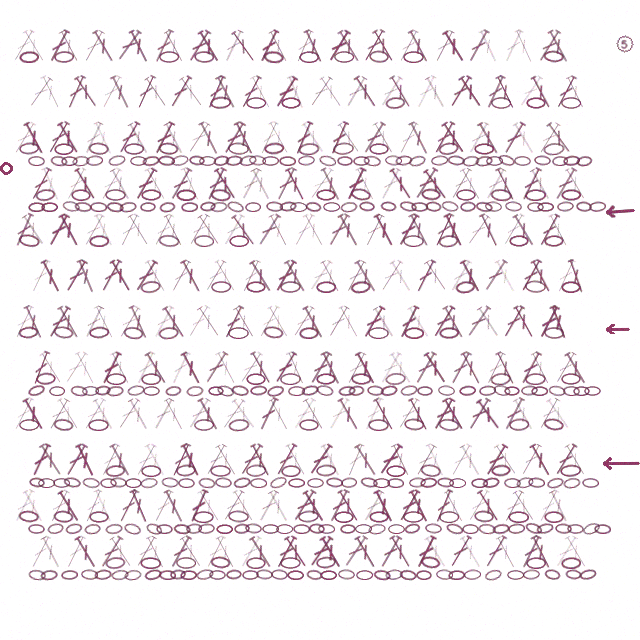chain: (18, 233, 40, 248), (438, 141, 459, 156), (350, 187, 371, 202), (53, 325, 74, 340), (263, 325, 284, 340), (543, 417, 564, 432), (420, 463, 441, 478), (420, 555, 441, 570), (298, 142, 320, 156), (543, 142, 565, 156), (490, 188, 512, 202), (158, 234, 180, 248), (228, 418, 250, 432), (438, 418, 460, 432), (263, 50, 284, 64), (385, 96, 406, 110), (35, 188, 56, 202), (210, 188, 231, 202), (438, 234, 459, 248), (140, 280, 161, 294), (350, 280, 371, 294), (455, 280, 476, 294), (123, 326, 144, 340), (158, 326, 179, 340), (385, 372, 406, 386), (490, 372, 511, 386), (53, 418, 74, 432), (105, 464, 126, 478), (105, 556, 126, 570), (497, 153, 516, 168), (27, 383, 46, 398), (269, 475, 288, 490), (524, 521, 543, 536), (582, 521, 601, 536), (543, 50, 564, 63), (210, 96, 231, 109), (88, 142, 109, 155), (158, 142, 179, 155), (228, 142, 249, 155), (333, 142, 354, 155), (525, 280, 546, 293), (18, 326, 39, 339), (560, 464, 581, 477), (18, 510, 39, 523), (53, 510, 74, 523), (228, 510, 249, 523), (298, 510, 319, 523), (210, 556, 231, 569), (318, 154, 337, 168), (408, 154, 427, 168), (226, 200, 245, 214), (216, 384, 235, 398), (266, 384, 285, 398), (546, 476, 565, 490), (123, 522, 142, 536), (445, 522, 464, 536), (484, 568, 503, 582), (369, 50, 389, 63), (19, 142, 39, 155), (264, 142, 284, 155), (421, 188, 441, 201), (89, 326, 109, 339), (36, 372, 56, 385), (404, 418, 424, 431), (509, 418, 529, 431), (176, 464, 196, 477), (246, 464, 266, 477), (316, 464, 336, 477), (491, 464, 511, 477), (474, 510, 494, 523), (316, 556, 336, 569), (403, 51, 424, 63), (105, 189, 126, 201), (525, 189, 546, 201), (403, 235, 424, 247), (280, 281, 301, 293), (228, 327, 249, 339), (368, 327, 389, 339), (280, 373, 301, 385), (525, 373, 546, 385), (88, 419, 109, 431), (368, 419, 389, 431), (210, 465, 231, 477), (193, 511, 214, 523), (403, 511, 424, 523), (508, 511, 529, 523), (145, 522, 163, 536), (140, 557, 161, 569), (280, 557, 301, 569), (19, 51, 39, 63), (54, 51, 74, 63), (159, 51, 179, 63), (194, 51, 214, 63), (299, 51, 319, 63), (334, 51, 354, 63), (246, 97, 266, 109), (281, 97, 301, 109), (491, 97, 511, 109), (526, 97, 546, 109), (561, 97, 581, 109), (54, 143, 74, 155), (124, 143, 144, 155), (369, 143, 389, 155), (474, 143, 494, 155), (71, 189, 91, 201), (141, 189, 161, 201), (176, 189, 196, 201), (316, 189, 336, 201), (456, 189, 476, 201), (561, 189, 581, 201), (89, 235, 109, 247), (194, 235, 214, 247), (229, 235, 249, 247), (509, 235, 529, 247), (544, 235, 564, 247), (211, 281, 231, 293), (246, 281, 266, 293), (316, 281, 336, 293), (561, 281, 581, 293), (299, 327, 319, 339), (404, 327, 424, 339), (439, 327, 459, 339), (544, 327, 564, 339), (106, 373, 126, 385), (141, 373, 161, 385), (246, 373, 266, 385), (316, 373, 336, 385), (351, 373, 371, 385), (561, 373, 581, 385), (19, 419, 39, 431), (194, 419, 214, 431), (299, 419, 319, 431), (141, 465, 161, 477), (281, 465, 301, 477), (386, 465, 406, 477), (89, 511, 109, 523), (334, 511, 354, 523), (369, 511, 389, 523), (439, 511, 459, 523), (544, 511, 564, 523), (176, 557, 196, 569), (246, 557, 266, 569), (526, 557, 546, 569), (561, 557, 581, 569), (108, 154, 126, 167), (171, 154, 189, 167), (239, 154, 257, 167), (62, 200, 80, 213), (399, 200, 417, 213), (441, 200, 459, 213), (127, 384, 145, 397), (231, 384, 249, 397), (301, 384, 319, 397), (316, 384, 334, 397), (380, 384, 398, 397), (400, 384, 418, 397), (493, 384, 511, 397), (63, 476, 81, 489), (233, 476, 251, 489), (360, 476, 378, 489), (482, 476, 500, 489), (516, 476, 534, 489), (65, 522, 83, 535), (536, 522, 554, 535), (144, 568, 162, 581), (196, 568, 214, 581), (579, 568, 597, 581), (213, 154, 230, 167), (47, 522, 64, 535), (404, 522, 421, 535), (544, 568, 561, 581), (50, 155, 68, 167), (72, 155, 90, 167), (142, 155, 160, 167), (363, 155, 381, 167), (462, 155, 480, 167), (475, 155, 493, 167), (74, 201, 92, 213), (106, 201, 124, 213), (119, 201, 137, 213), (210, 201, 228, 213), (340, 201, 358, 213), (475, 201, 493, 213), (70, 385, 88, 397), (106, 385, 124, 397), (186, 385, 204, 397), (338, 385, 356, 397), (548, 385, 566, 397), (82, 477, 100, 489), (140, 477, 158, 489), (198, 477, 216, 489), (563, 477, 581, 489), (105, 523, 123, 535), (173, 523, 191, 535), (368, 523, 386, 535), (478, 523, 496, 535), (492, 523, 510, 535), (28, 569, 46, 581), (40, 569, 58, 581), (111, 569, 129, 581), (124, 569, 142, 581), (373, 569, 391, 581), (399, 569, 417, 581), (576, 155, 593, 167), (159, 201, 176, 213), (305, 201, 322, 213), (165, 385, 182, 397), (84, 523, 101, 535), (306, 569, 323, 581), (225, 155, 243, 166), (395, 155, 413, 166), (447, 155, 465, 166), (279, 201, 297, 212), (161, 477, 179, 488), (94, 569, 112, 580), (385, 569, 403, 580), (86, 155, 103, 166), (158, 155, 175, 166), (249, 155, 266, 166), (298, 155, 315, 166), (385, 155, 402, 166), (431, 155, 448, 166), (534, 155, 551, 166), (563, 155, 580, 166), (266, 201, 283, 212), (380, 201, 397, 212), (425, 201, 442, 212), (485, 201, 502, 212), (505, 201, 522, 212), (557, 201, 574, 212), (589, 201, 606, 212), (250, 385, 267, 396), (348, 385, 365, 396), (367, 385, 384, 396), (438, 385, 455, 396), (459, 385, 476, 396), (479, 385, 496, 396), (521, 385, 538, 396), (110, 477, 127, 488), (215, 477, 232, 488), (326, 477, 343, 488), (409, 477, 426, 488), (420, 477, 437, 488), (437, 477, 454, 488), (528, 477, 545, 488), (198, 523, 215, 534), (245, 523, 262, 534), (425, 523, 442, 534), (508, 523, 525, 534), (555, 523, 572, 534), (81, 569, 98, 580), (256, 569, 273, 580), (271, 569, 288, 580), (338, 569, 355, 580), (436, 569, 453, 580), (464, 569, 481, 580), (523, 569, 540, 580), (565, 569, 582, 580), (189, 155, 205, 166), (200, 201, 216, 212), (359, 201, 375, 212), (460, 201, 476, 212), (576, 201, 592, 212), (95, 385, 111, 396), (29, 477, 45, 488), (341, 477, 357, 488), (186, 523, 202, 534), (234, 523, 250, 534), (309, 523, 325, 534), (170, 569, 186, 580), (226, 569, 242, 580), (28, 156, 45, 166), (61, 156, 78, 166), (130, 156, 147, 166), (199, 156, 216, 166), (262, 156, 279, 166), (279, 156, 296, 166), (353, 156, 370, 166), (486, 156, 503, 166), (514, 156, 531, 166), (28, 202, 45, 212), (41, 202, 58, 212), (90, 202, 107, 212), (181, 202, 198, 212), (290, 202, 307, 212), (323, 202, 340, 212), (411, 202, 428, 212), (527, 202, 544, 212), (537, 202, 554, 212), (82, 386, 99, 396), (143, 386, 160, 396), (288, 386, 305, 396), (531, 386, 548, 396), (563, 386, 580, 396), (573, 386, 590, 396), (584, 386, 601, 396), (38, 478, 55, 488), (53, 478, 70, 488), (100, 478, 117, 488), (125, 478, 142, 488), (178, 478, 195, 488), (250, 478, 267, 488), (288, 478, 305, 488), (307, 478, 324, 488), (373, 478, 390, 488), (387, 478, 404, 488), (449, 478, 466, 488), (471, 478, 488, 488), (504, 478, 521, 488), (582, 478, 599, 488), (28, 524, 45, 534), (156, 524, 173, 534), (216, 524, 233, 534), (262, 524, 279, 534), (276, 524, 293, 534), (293, 524, 310, 534), (318, 524, 335, 534), (355, 524, 372, 534), (388, 524, 405, 534), (462, 524, 479, 534), (567, 524, 584, 534), (594, 524, 611, 534), (61, 570, 78, 580), (159, 570, 176, 580), (180, 570, 197, 580), (209, 570, 226, 580), (242, 570, 259, 580), (287, 570, 304, 580), (320, 570, 337, 580), (356, 570, 373, 580), (448, 570, 465, 580), (507, 570, 524, 580), (337, 156, 353, 166), (552, 156, 568, 166), (140, 202, 156, 212), (245, 202, 261, 212), (49, 386, 65, 396), (208, 386, 224, 396), (417, 386, 433, 396), (504, 386, 520, 396), (340, 524, 356, 534), (416, 570, 432, 580)
double: (114, 28, 144, 63), (176, 74, 206, 109), (544, 120, 574, 155), (306, 166, 336, 201), (229, 396, 259, 431), (351, 74, 380, 109), (456, 74, 485, 109), (516, 74, 545, 109), (184, 120, 213, 155), (299, 120, 328, 155), (439, 120, 468, 155), (19, 212, 48, 247), (306, 258, 335, 293), (421, 258, 450, 293), (481, 258, 510, 293), (194, 304, 223, 339), (464, 304, 493, 339), (474, 304, 503, 339), (61, 350, 90, 385), (236, 350, 265, 385), (421, 350, 450, 385), (114, 396, 143, 431), (544, 396, 573, 431), (306, 442, 335, 477), (376, 442, 405, 477), (491, 442, 520, 477), (341, 534, 370, 569), (20, 28, 48, 64), (185, 28, 213, 64), (195, 28, 223, 64), (325, 28, 353, 64), (335, 28, 363, 64), (440, 28, 468, 64), (535, 28, 563, 64), (272, 74, 300, 110), (342, 74, 370, 110), (10, 120, 38, 156), (220, 120, 248, 156), (360, 120, 388, 156), (500, 120, 528, 156), (510, 120, 538, 156), (535, 120, 563, 156), (255, 212, 283, 248), (510, 212, 538, 248), (62, 258, 90, 294), (132, 258, 160, 294), (247, 258, 275, 294), (352, 258, 380, 294), (387, 258, 415, 294), (45, 304, 73, 340), (115, 304, 143, 340), (160, 304, 188, 340), (230, 304, 258, 340), (370, 304, 398, 340), (405, 304, 433, 340), (37, 350, 65, 386), (142, 350, 170, 386), (387, 350, 415, 386), (562, 350, 590, 386), (80, 396, 108, 432), (290, 396, 318, 432), (325, 396, 353, 432), (465, 396, 493, 432), (62, 442, 90, 478), (212, 442, 240, 478), (352, 442, 380, 478), (482, 442, 510, 478), (55, 488, 83, 524), (195, 488, 223, 524), (300, 488, 328, 524), (72, 534, 100, 570), (97, 534, 125, 570), (247, 534, 275, 570), (317, 534, 345, 570), (422, 534, 450, 570), (457, 534, 485, 570), (552, 534, 580, 570), (562, 534, 590, 570), (229, 29, 258, 63), (26, 75, 55, 109), (421, 167, 450, 201), (229, 213, 258, 247), (464, 213, 493, 247), (219, 397, 248, 431), (474, 397, 503, 431), (72, 74, 100, 109), (142, 74, 170, 109), (307, 74, 335, 109), (317, 74, 345, 109), (377, 74, 405, 109), (335, 120, 363, 155), (387, 166, 415, 201), (412, 166, 440, 201), (195, 212, 223, 247), (377, 258, 405, 293), (202, 350, 230, 385), (185, 396, 213, 431), (37, 442, 65, 477), (237, 442, 265, 477), (290, 488, 318, 523), (510, 488, 538, 523), (107, 534, 135, 569), (177, 534, 205, 569), (282, 534, 310, 569), (307, 534, 335, 569), (80, 28, 107, 64), (90, 28, 117, 64), (405, 28, 432, 64), (465, 28, 492, 64), (545, 28, 572, 64), (422, 74, 449, 110), (125, 120, 152, 156), (465, 120, 492, 156), (475, 120, 502, 156), (97, 166, 124, 202), (107, 166, 134, 202), (132, 166, 159, 202), (142, 166, 169, 202), (167, 166, 194, 202), (377, 166, 404, 202), (457, 166, 484, 202), (482, 166, 509, 202), (527, 166, 554, 202), (552, 166, 579, 202), (45, 212, 72, 248), (80, 212, 107, 248), (220, 212, 247, 248), (300, 212, 327, 248), (325, 212, 352, 248), (335, 212, 362, 248), (395, 212, 422, 248), (142, 258, 169, 294), (272, 258, 299, 294), (282, 258, 309, 294), (342, 258, 369, 294), (447, 258, 474, 294), (457, 258, 484, 294), (492, 258, 519, 294), (55, 304, 82, 340), (150, 304, 177, 340), (300, 304, 327, 340), (360, 304, 387, 340), (440, 304, 467, 340), (307, 350, 334, 386), (352, 350, 379, 386), (377, 350, 404, 386), (412, 350, 439, 386), (447, 350, 474, 386), (517, 350, 544, 386), (20, 396, 47, 432), (45, 396, 72, 432), (90, 396, 117, 432), (125, 396, 152, 432), (150, 396, 177, 432), (195, 396, 222, 432), (300, 396, 327, 432), (335, 396, 362, 432), (430, 396, 457, 432), (440, 396, 467, 432), (510, 396, 537, 432), (107, 442, 134, 478), (132, 442, 159, 478), (142, 442, 169, 478), (412, 442, 439, 478), (447, 442, 474, 478), (457, 442, 484, 478), (527, 442, 554, 478), (20, 488, 47, 524), (255, 488, 282, 524), (265, 488, 292, 524), (360, 488, 387, 524), (500, 488, 527, 524), (167, 534, 194, 570), (237, 534, 264, 570), (352, 534, 379, 570), (377, 534, 404, 570), (10, 28, 37, 63), (370, 28, 397, 63), (167, 74, 194, 109), (387, 74, 414, 109), (447, 74, 474, 109), (45, 120, 72, 155), (55, 120, 82, 155), (370, 120, 397, 155), (72, 166, 99, 201), (212, 166, 239, 201), (562, 166, 589, 201), (125, 212, 152, 247), (500, 212, 527, 247), (107, 258, 134, 293), (202, 258, 229, 293), (212, 258, 239, 293), (185, 304, 212, 339), (265, 304, 292, 339), (290, 304, 317, 339), (325, 304, 352, 339), (430, 304, 457, 339), (500, 304, 527, 339), (272, 350, 299, 385), (552, 350, 579, 385), (55, 396, 82, 431), (395, 396, 422, 431), (552, 442, 579, 477), (562, 442, 589, 477), (220, 488, 247, 523), (230, 488, 257, 523), (335, 488, 362, 523), (465, 488, 492, 523), (475, 488, 502, 523), (387, 534, 414, 569), (447, 534, 474, 569), (482, 534, 509, 569), (46, 28, 72, 64), (56, 28, 82, 64), (126, 28, 152, 64), (161, 28, 187, 64), (256, 28, 282, 64), (431, 28, 457, 64), (98, 74, 124, 110), (213, 74, 239, 110), (238, 74, 264, 110), (248, 74, 274, 110), (413, 74, 439, 110), (528, 74, 554, 110), (553, 74, 579, 110), (21, 120, 47, 156), (151, 120, 177, 156), (161, 120, 187, 156), (196, 120, 222, 156), (231, 120, 257, 156), (406, 120, 432, 156), (28, 166, 54, 202), (63, 166, 89, 202), (203, 166, 229, 202), (238, 166, 264, 202), (248, 166, 274, 202), (273, 166, 299, 202), (318, 166, 344, 202), (343, 166, 369, 202), (518, 166, 544, 202), (56, 212, 82, 248), (91, 212, 117, 248), (116, 212, 142, 248), (291, 212, 317, 248), (361, 212, 387, 248), (371, 212, 397, 248), (406, 212, 432, 248), (536, 212, 562, 248), (38, 258, 64, 294), (168, 258, 194, 294), (178, 258, 204, 294), (528, 258, 554, 294), (81, 304, 107, 340), (91, 304, 117, 340), (396, 304, 422, 340), (536, 304, 562, 340), (98, 350, 124, 386), (178, 350, 204, 386), (213, 350, 239, 386), (318, 350, 344, 386), (343, 350, 369, 386), (458, 350, 484, 386), (161, 396, 187, 432), (266, 396, 292, 432), (371, 396, 397, 432), (501, 396, 527, 432), (318, 442, 344, 478), (11, 488, 37, 524), (46, 488, 72, 524), (161, 488, 187, 524), (326, 488, 352, 524), (371, 488, 397, 524), (406, 488, 432, 524), (441, 488, 467, 524), (546, 488, 572, 524), (38, 534, 64, 570), (273, 534, 299, 570), (413, 534, 439, 570), (493, 534, 519, 570), (518, 534, 544, 570), (528, 534, 554, 570), (361, 28, 387, 63), (116, 120, 142, 155), (266, 120, 292, 155), (431, 120, 457, 155), (448, 166, 474, 201), (186, 212, 212, 247), (98, 258, 124, 293), (518, 258, 544, 293), (256, 304, 282, 339), (336, 304, 362, 339), (511, 304, 537, 339), (248, 350, 274, 385), (536, 396, 562, 431), (203, 442, 229, 477), (273, 442, 299, 477), (283, 442, 309, 477), (518, 442, 544, 477), (396, 488, 422, 523), (133, 534, 159, 569), (151, 28, 176, 64), (221, 28, 246, 64), (266, 28, 291, 64), (301, 28, 326, 64), (396, 28, 421, 64), (476, 28, 501, 64), (501, 28, 526, 64), (38, 74, 63, 110), (108, 74, 133, 110), (483, 74, 508, 110), (493, 74, 518, 110), (563, 74, 588, 110), (81, 120, 106, 156), (91, 120, 116, 156), (396, 120, 421, 156), (178, 166, 203, 202), (283, 166, 308, 202), (353, 166, 378, 202), (493, 166, 518, 202), (151, 212, 176, 248), (161, 212, 186, 248), (266, 212, 291, 248), (441, 212, 466, 248), (546, 212, 571, 248), (28, 258, 53, 294), (318, 258, 343, 294), (413, 258, 438, 294), (553, 258, 578, 294), (11, 304, 36, 340), (21, 304, 46, 340), (126, 304, 151, 340), (221, 304, 246, 340), (73, 350, 98, 386), (108, 350, 133, 386), (133, 350, 158, 386), (168, 350, 193, 386), (283, 350, 308, 386), (483, 350, 508, 386), (493, 350, 518, 386), (528, 350, 553, 386), (11, 396, 36, 432), (256, 396, 281, 432), (361, 396, 386, 432), (406, 396, 431, 432), (73, 442, 98, 478), (98, 442, 123, 478), (178, 442, 203, 478), (248, 442, 273, 478), (388, 442, 413, 478), (423, 442, 448, 478), (91, 488, 116, 524), (116, 488, 141, 524), (151, 488, 176, 524), (186, 488, 211, 524), (536, 488, 561, 524), (28, 534, 53, 570), (63, 534, 88, 570), (143, 534, 168, 570), (203, 534, 228, 570), (213, 534, 238, 570), (292, 28, 316, 64), (512, 28, 536, 64), (64, 74, 88, 110), (134, 74, 158, 110), (204, 74, 228, 110), (284, 74, 308, 110), (257, 120, 281, 156), (327, 120, 351, 156), (39, 166, 63, 202), (12, 212, 36, 248), (432, 212, 456, 248), (477, 212, 501, 248), (74, 258, 98, 294), (239, 258, 263, 294), (29, 442, 53, 478), (169, 442, 193, 478), (127, 488, 151, 524), (292, 120, 315, 156), (547, 304, 570, 340), (344, 442, 367, 478), (82, 488, 105, 524), (432, 488, 455, 524), (565, 258, 587, 294), (30, 350, 52, 386)
noise: (600, 455, 640, 471), (603, 204, 635, 218), (614, 33, 635, 54), (603, 324, 630, 334), (0, 160, 14, 176)
